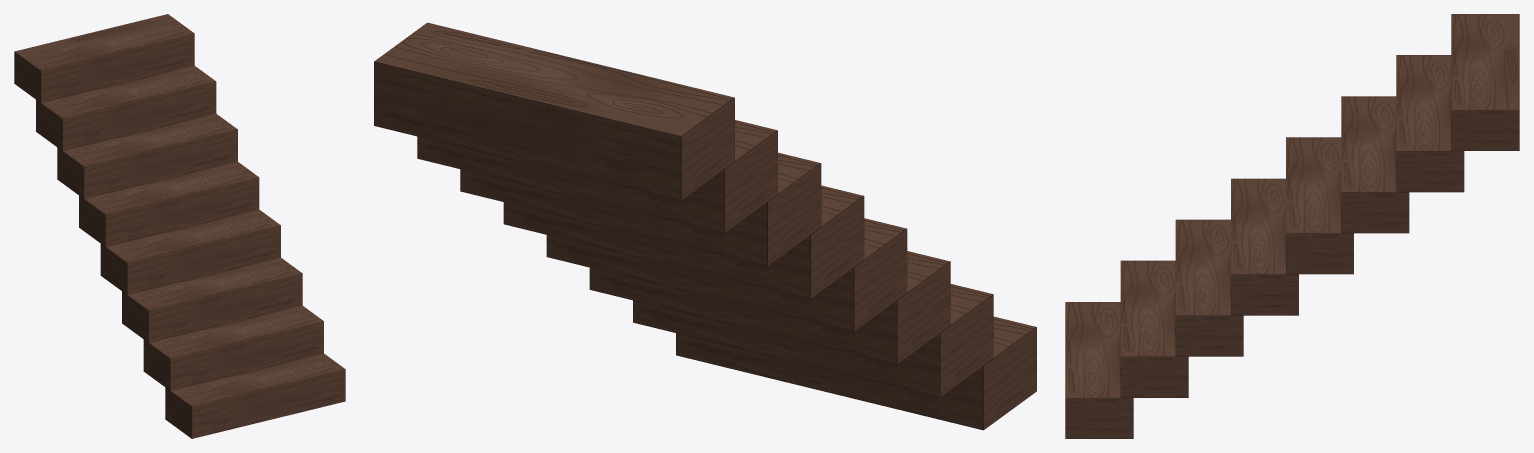
The model's file is stairs.fbx.
3 views of the same model, side by side, from view 1: azimuth 30°, elevation 25°; view 2: azimuth 150°, elevation 25°; view 3: azimuth 270°, elevation 25° (orthographic). The views are drawn at different scales.
Visible parts, largest first — view 1: stairs; view 2: stairs; view 3: stairs.
Part boxes in pixels (box(x1,y1,x2,y2)): stairs: box(14, 14, 345, 438); stairs: box(374, 22, 1036, 430); stairs: box(1065, 14, 1519, 438).
Bounding box in the file's own units: 100 × 160 × 200.
1 material, 1 textured.
